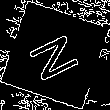N_NE: (24, 26, 86, 84)
